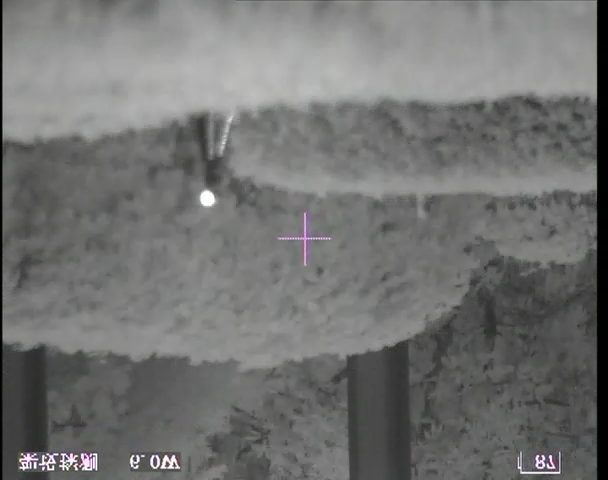my: (198, 189, 216, 208)
